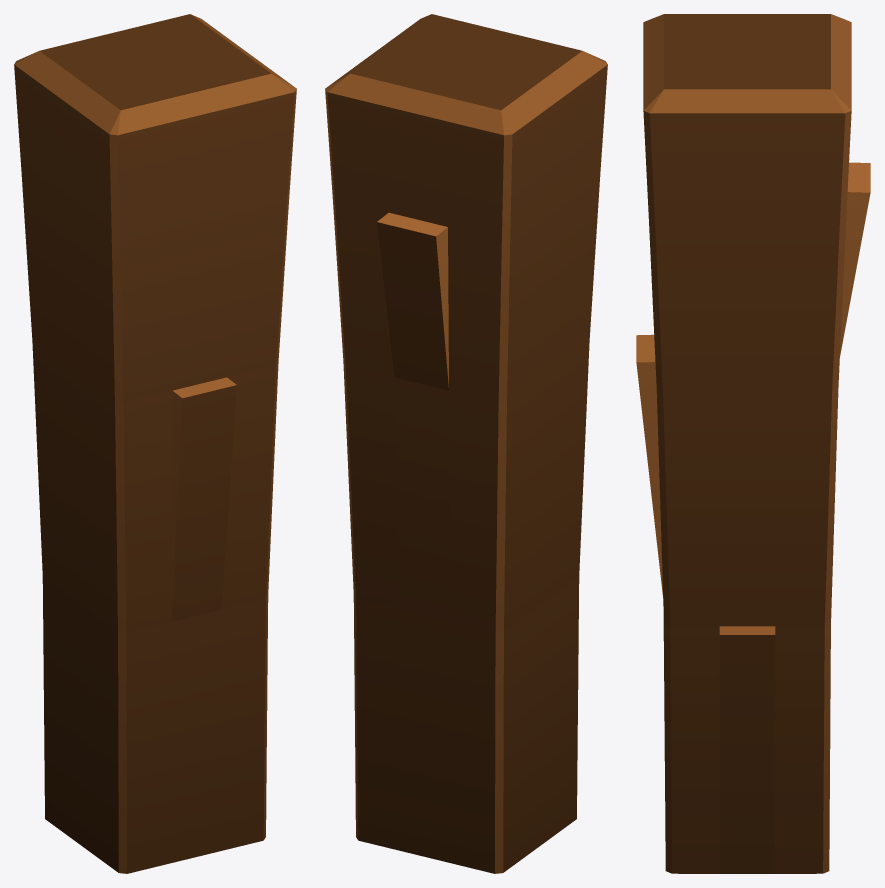
The model's file is Fence-2-3.fbx.
The picture shows the model from 3 angles, left to right: view 1: azimuth 30°, elevation 25°; view 2: azimuth 150°, elevation 25°; view 3: azimuth 270°, elevation 25°; orthographic projection. The views are drawn at different scales.
Parts seen in each view (by area): view 1: Fence-2-3; view 2: Fence-2-3; view 3: Fence-2-3.
Boxes of the visible parts, bbox=[...] form: Fence-2-3: bbox=[14, 14, 296, 873]; Fence-2-3: bbox=[325, 14, 607, 873]; Fence-2-3: bbox=[636, 14, 870, 873].
Size of the model in its own units: 37.59 by 147 by 39.69.
